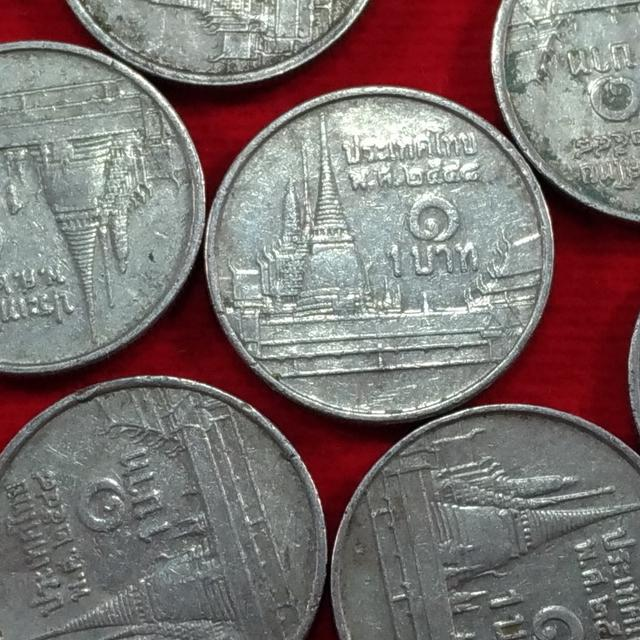1-baht: (202, 80, 560, 436), (0, 384, 330, 640), (326, 398, 640, 640), (0, 35, 211, 370), (497, 0, 640, 233)
